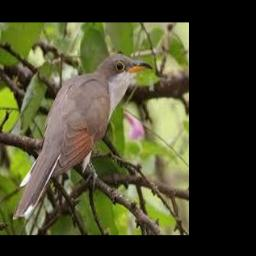Cuckoo: (13, 53, 153, 219)
